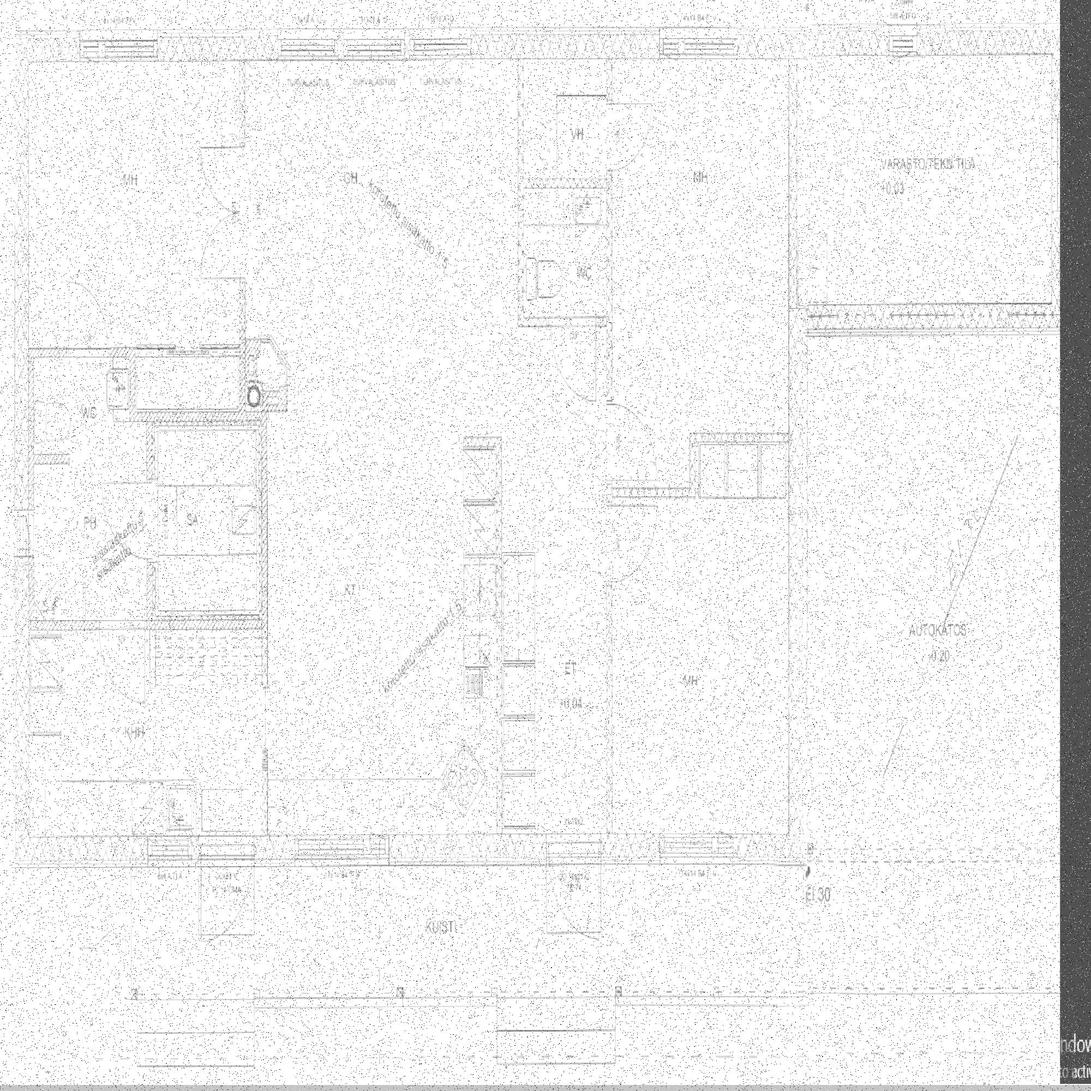wall: (10, 33, 1070, 60), (10, 832, 809, 865), (10, 33, 30, 865), (789, 304, 809, 865), (789, 305, 1070, 334), (606, 60, 614, 831), (1054, 33, 1070, 333), (260, 409, 267, 832), (497, 436, 504, 832), (30, 618, 260, 629), (788, 60, 798, 304), (239, 60, 246, 359), (517, 60, 524, 328), (130, 409, 267, 420), (147, 420, 154, 618), (137, 347, 246, 359), (30, 347, 137, 359), (517, 316, 606, 328), (614, 484, 695, 497), (689, 434, 789, 444), (524, 176, 606, 188), (130, 347, 137, 420), (462, 436, 504, 448), (30, 451, 70, 463), (239, 347, 246, 409), (689, 433, 695, 497)
